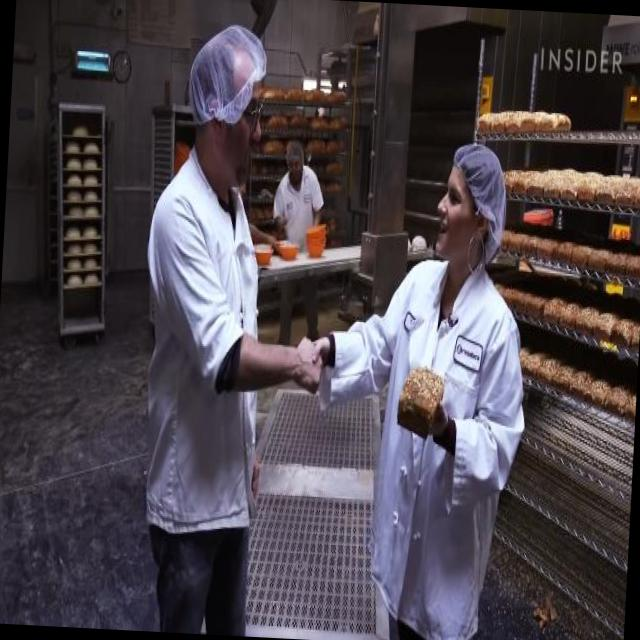hairnet: (188, 21, 264, 119), (449, 146, 514, 255), (286, 138, 305, 168)
